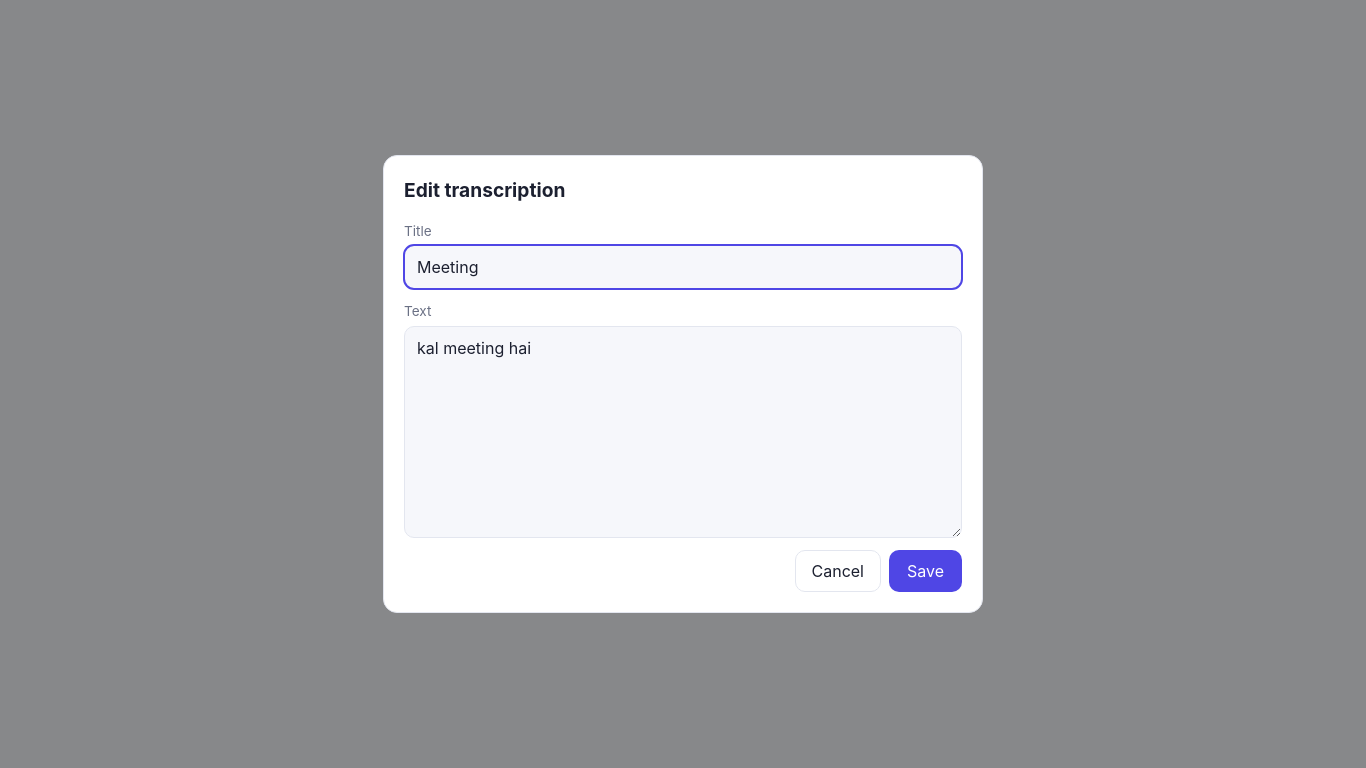
Test: TranscriptionModal › shows Saving… while the request is in flight
Click the button "Save" at [926, 571], box [889,550,962,592]
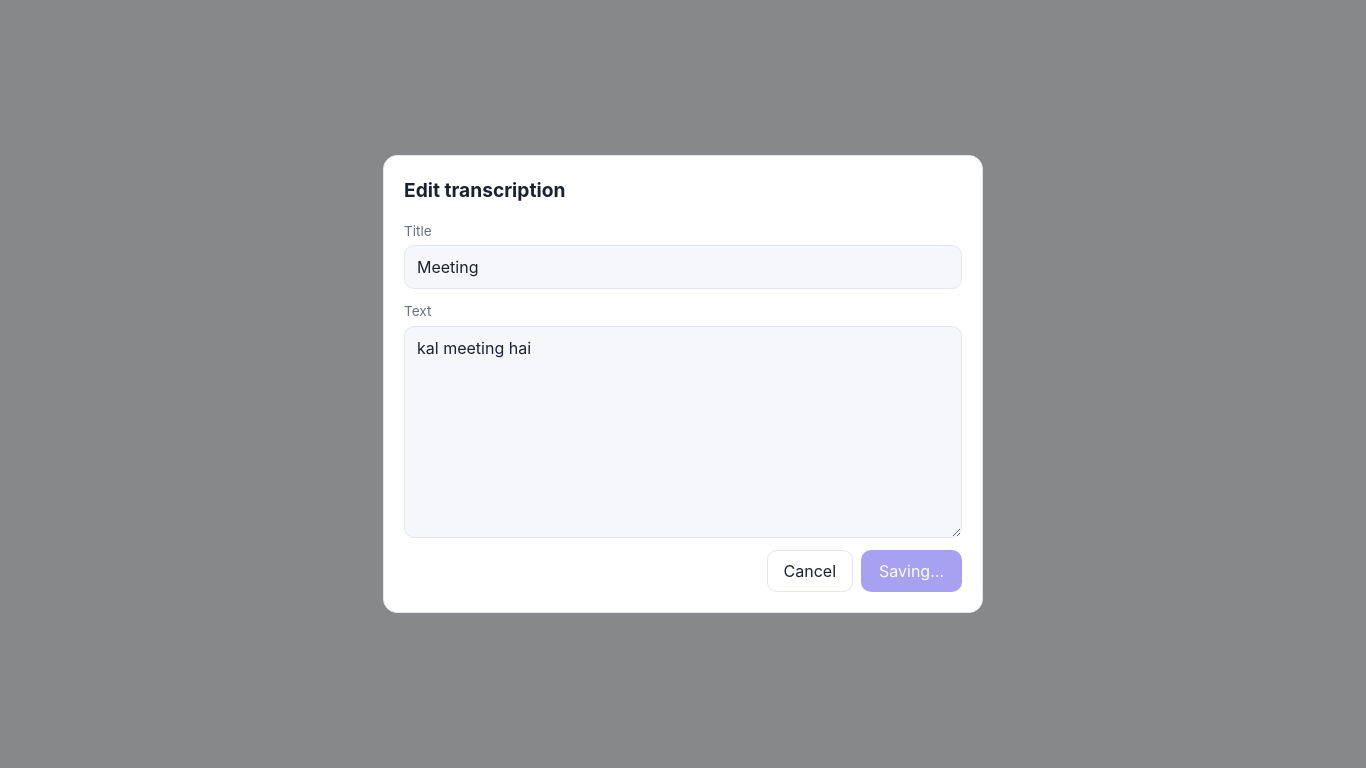
Expected: the button "Saving…" is disabled, [861,550,962,592]
